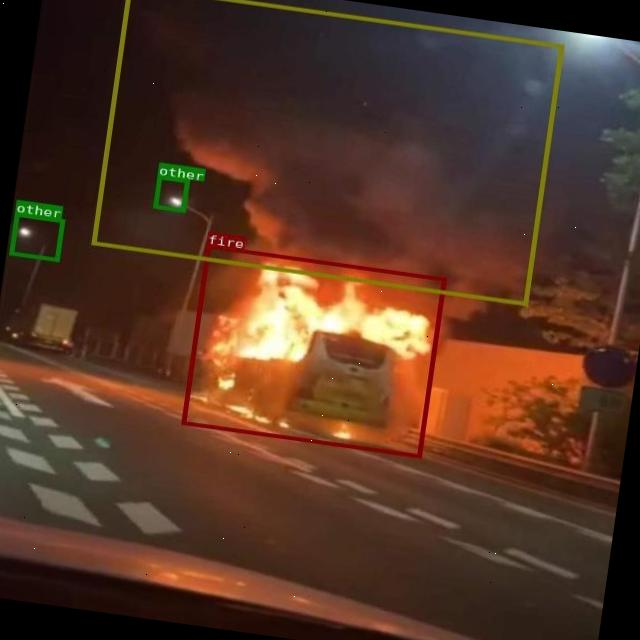fire: (180, 243, 446, 458)
smoke: (91, 0, 562, 306)
